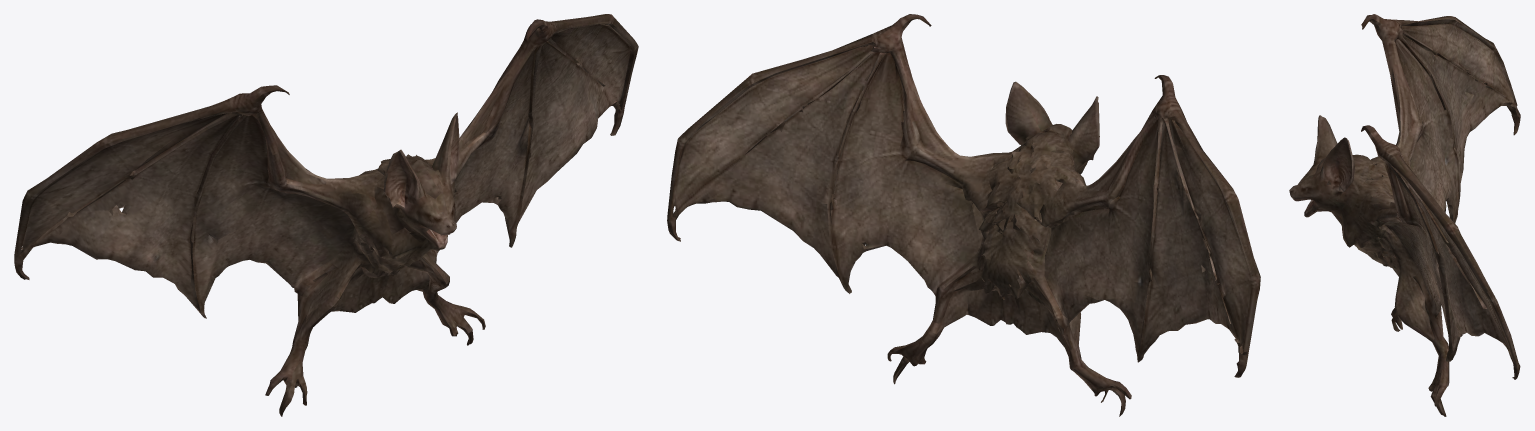
The model's file is mon_bat.glb.
3 renders of one model, left to right at view 1: azimuth 30°, elevation 25°; view 2: azimuth 150°, elevation 25°; view 3: azimuth 270°, elevation 25°, orthographic. The views are drawn at different scales.
Visible parts, largest first — view 1: mon_bat; view 2: mon_bat; view 3: mon_bat.
Part boxes in pixels (x1,y1,x2,y2): mon_bat: [14, 14, 638, 416]; mon_bat: [667, 14, 1260, 416]; mon_bat: [1289, 14, 1520, 416].
Size of the model in its own units: 1.9 by 1.04 by 0.7217.
1 material, 1 textured.
